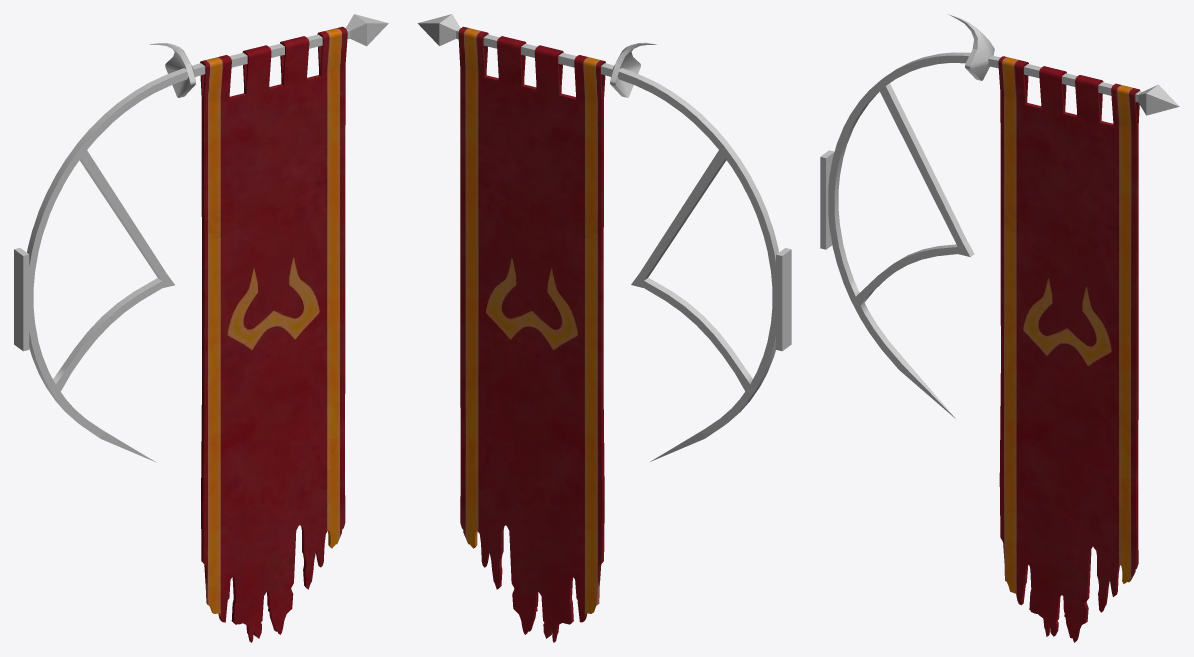
3 views of the same model, side by side, from view 1: azimuth 30°, elevation 25°; view 2: azimuth 150°, elevation 25°; view 3: azimuth 330°, elevation 25° (orthographic). The views are drawn at different scales.
Visible parts, largest first — view 1: SM_Zamorak_Banner_02_v1_LOD0; view 2: SM_Zamorak_Banner_02_v1_LOD0; view 3: SM_Zamorak_Banner_02_v1_LOD0.
Part boxes in pixels (box(x1,y1,x2,y2)): SM_Zamorak_Banner_02_v1_LOD0: box(14, 14, 388, 642); SM_Zamorak_Banner_02_v1_LOD0: box(417, 14, 791, 642); SM_Zamorak_Banner_02_v1_LOD0: box(820, 14, 1179, 642).
Size of the model in its own units: 3.25 by 5.23 by 0.3867.
